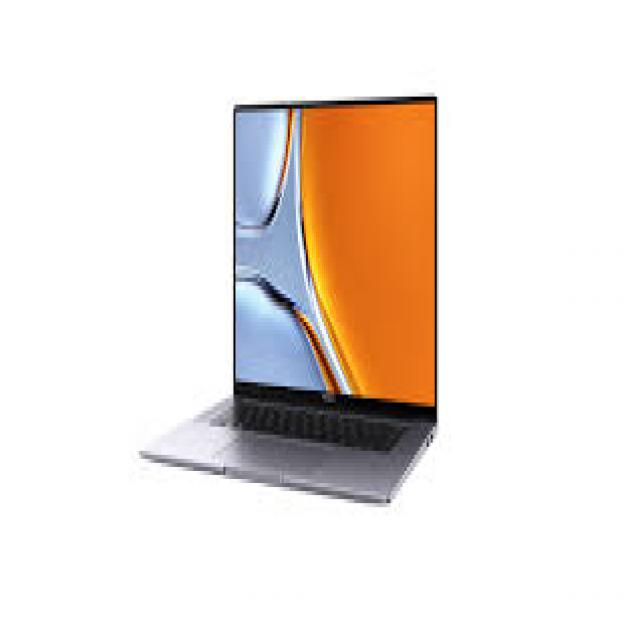others: (137, 73, 459, 499)
